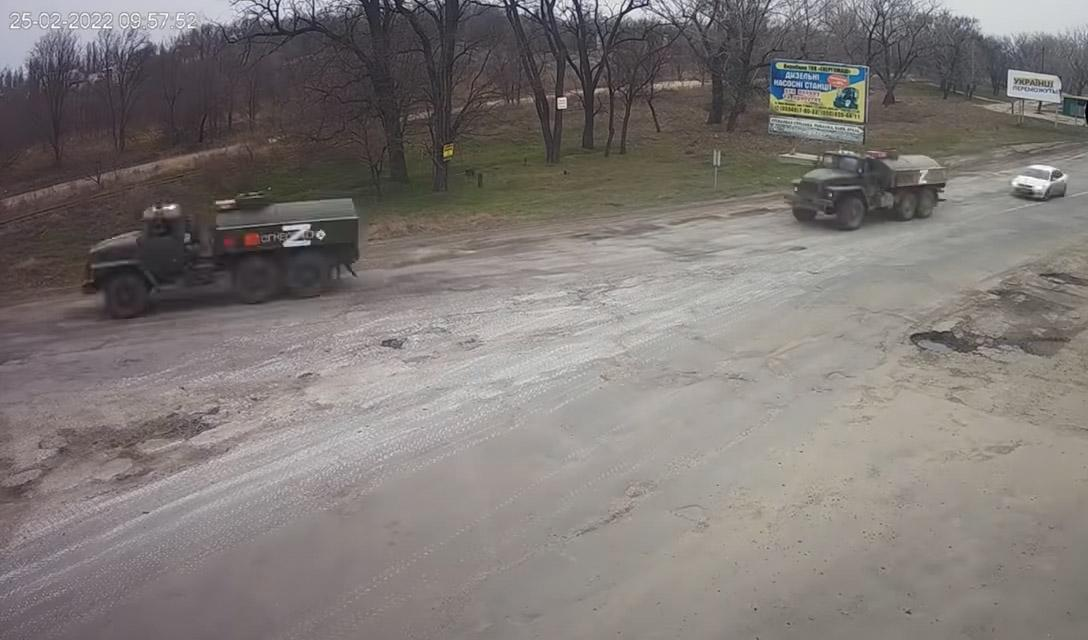car: (1009, 162, 1068, 206)
truck: (79, 195, 373, 318), (780, 145, 950, 234)
